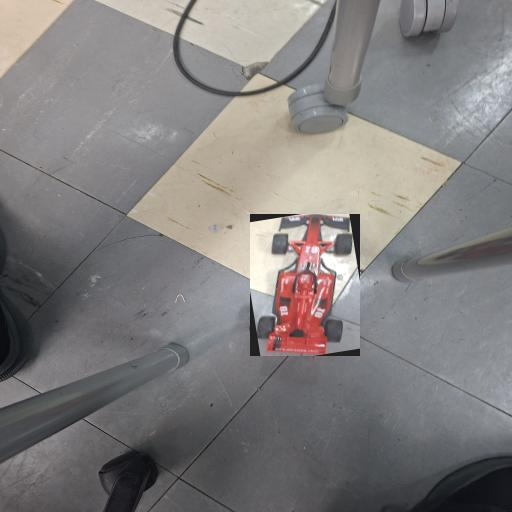carro: (249, 215, 358, 356)
